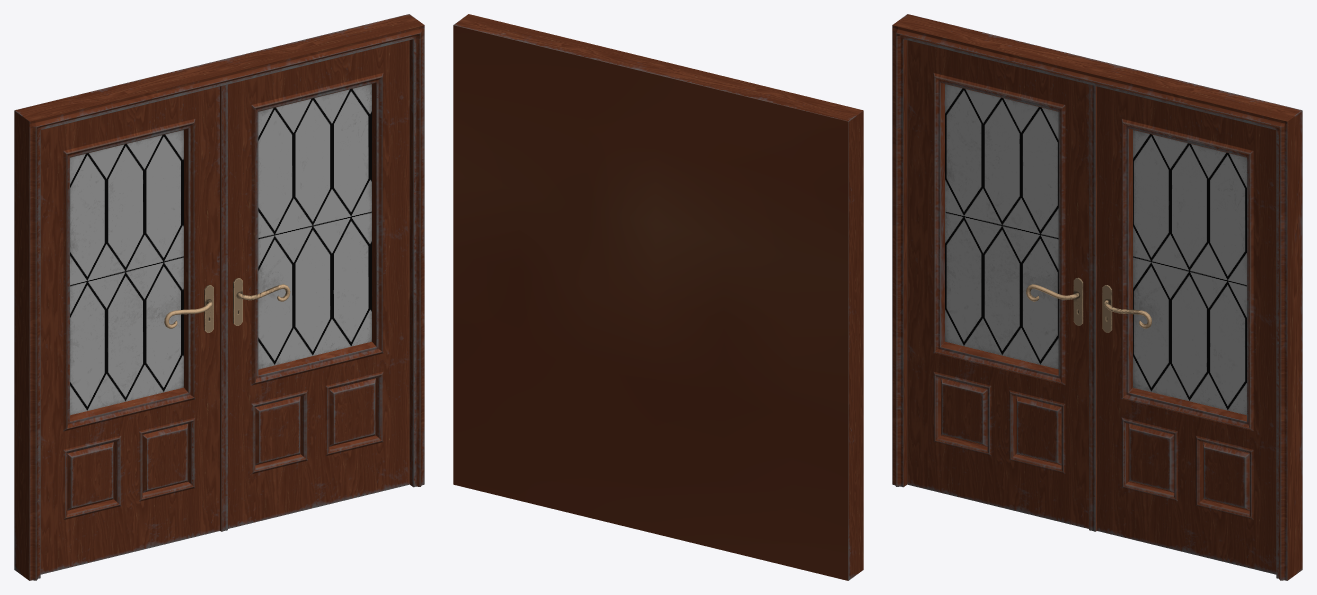
The model's file is entrance door 1.fbx.
The picture shows the model from 3 angles, left to right: view 1: azimuth 30°, elevation 25°; view 2: azimuth 150°, elevation 25°; view 3: azimuth 330°, elevation 25°; orthographic projection.
Visible parts, largest first — view 1: entrance_door_1; view 2: entrance_door_1; view 3: entrance_door_1.
Boxes of the visible parts, x1,y1,x2,y2 form: entrance_door_1: (14, 14, 424, 580); entrance_door_1: (453, 14, 863, 580); entrance_door_1: (892, 14, 1302, 580).
Size of the model in its own units: 220 by 245 by 16.33.
